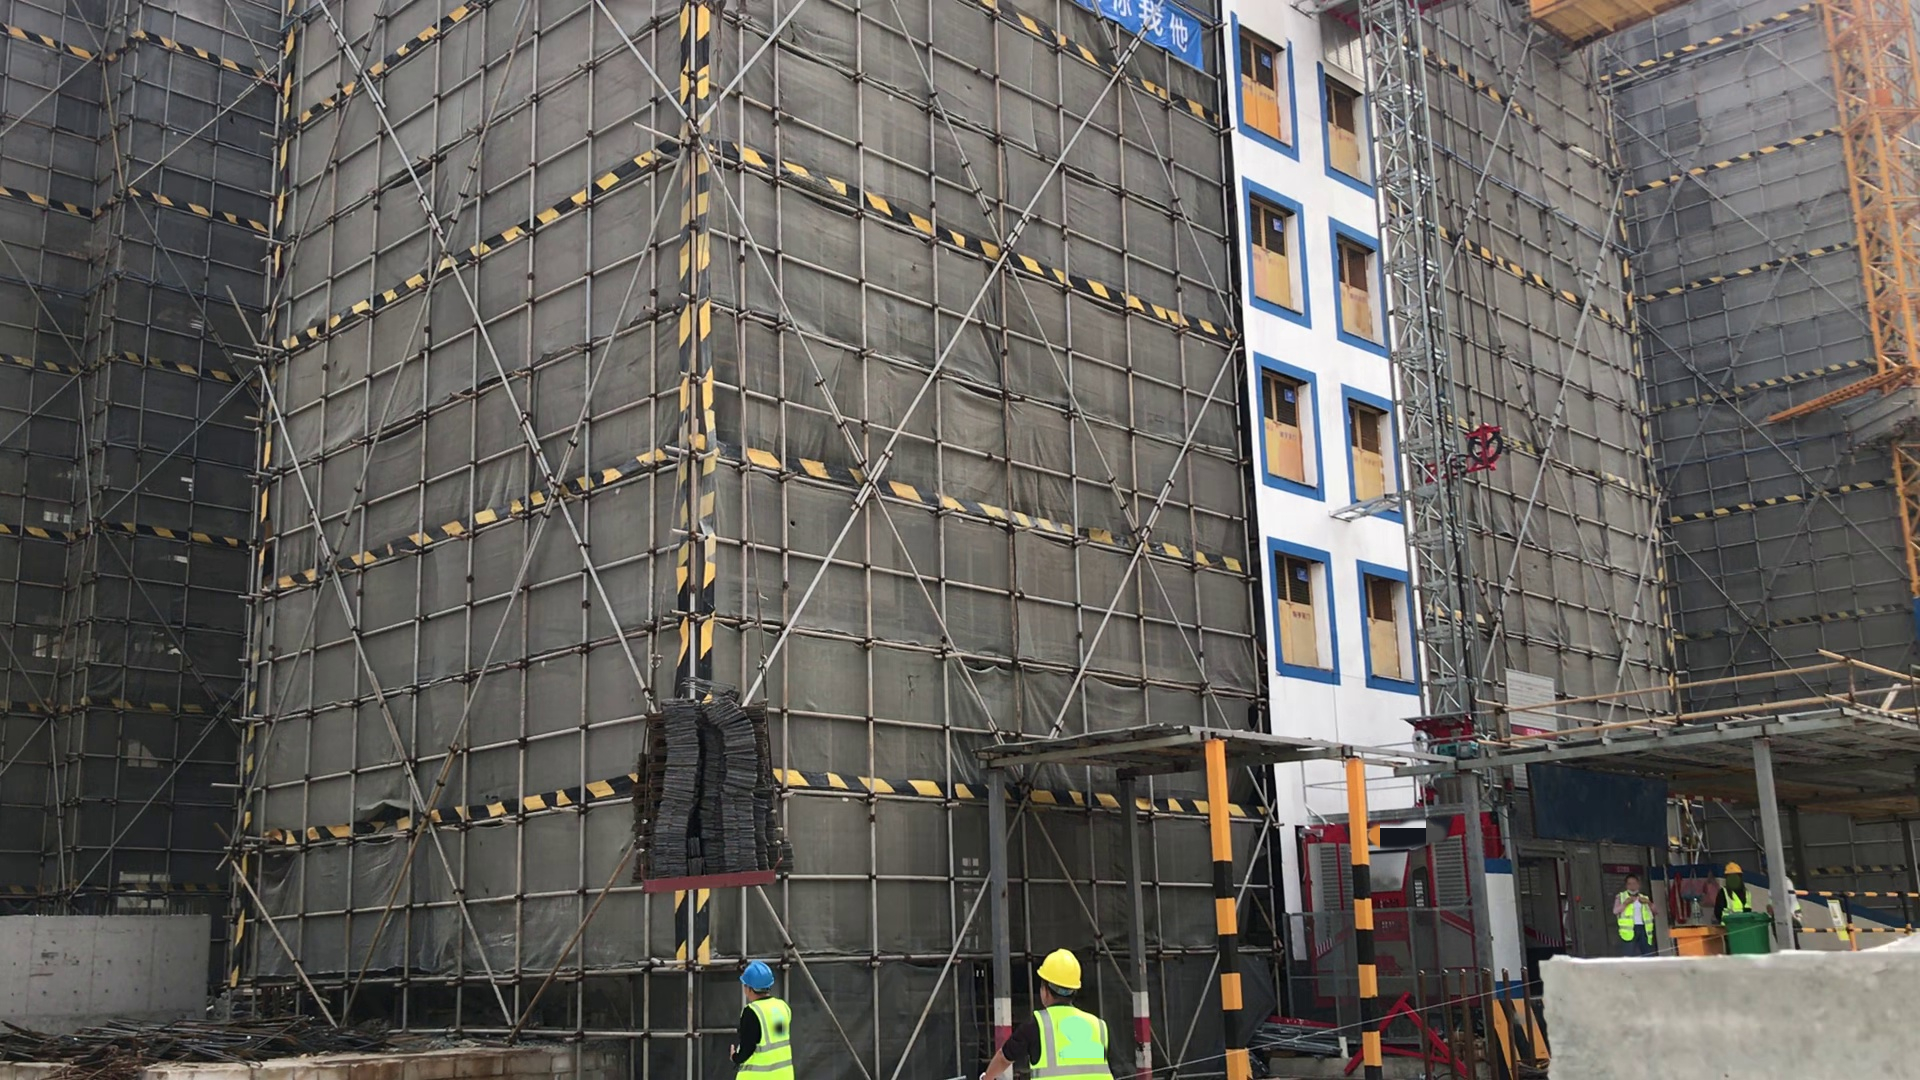helmet: (1032, 946, 1082, 992), (741, 963, 777, 990), (1726, 862, 1743, 877)
person: (964, 946, 1119, 1079), (730, 961, 797, 1080), (1610, 874, 1662, 957), (1712, 860, 1756, 916)
slogan: (1073, 3, 1210, 71)
vest: (1028, 1005, 1112, 1080), (738, 1001, 795, 1080), (1617, 893, 1655, 946), (1723, 887, 1750, 915)
